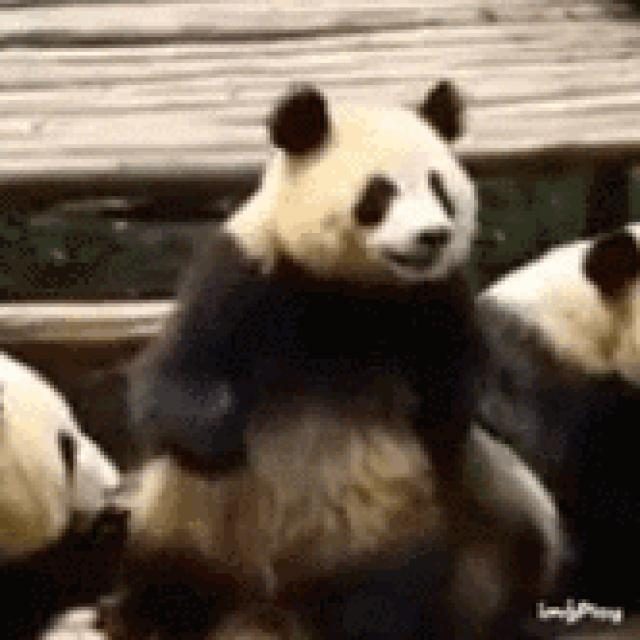panda: (107, 60, 566, 624)
